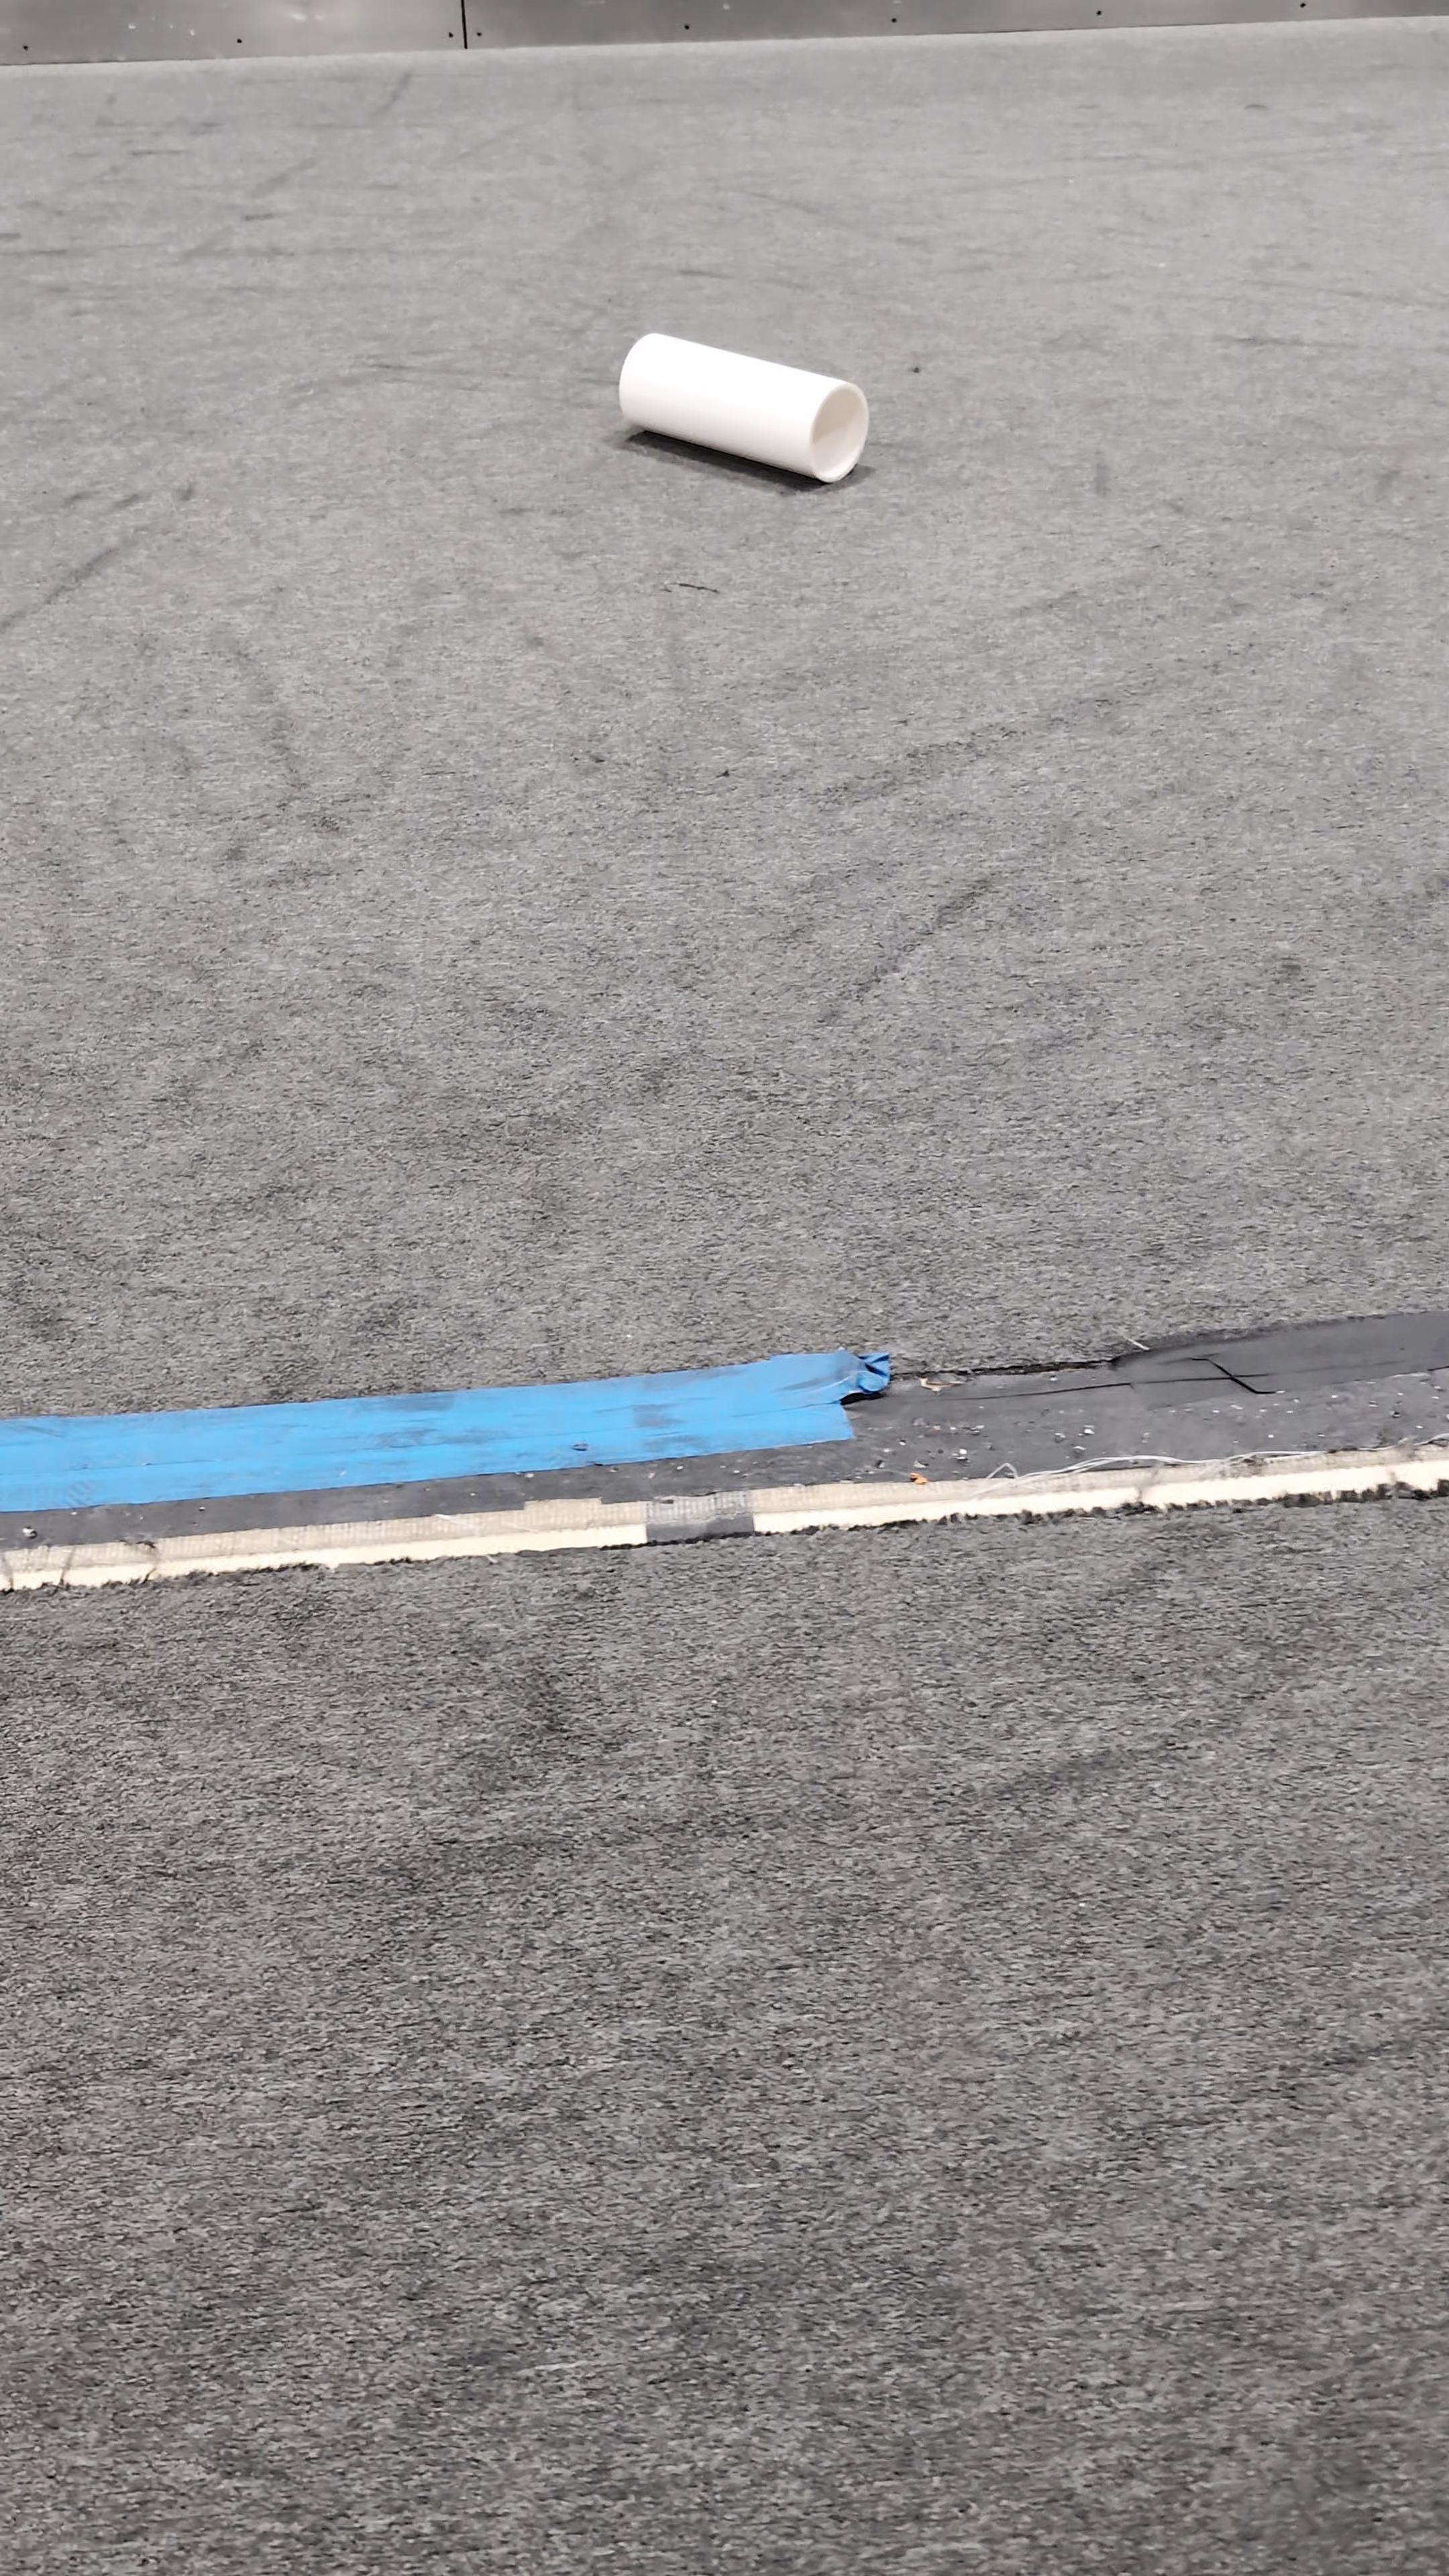coral: (616, 327, 872, 483)
